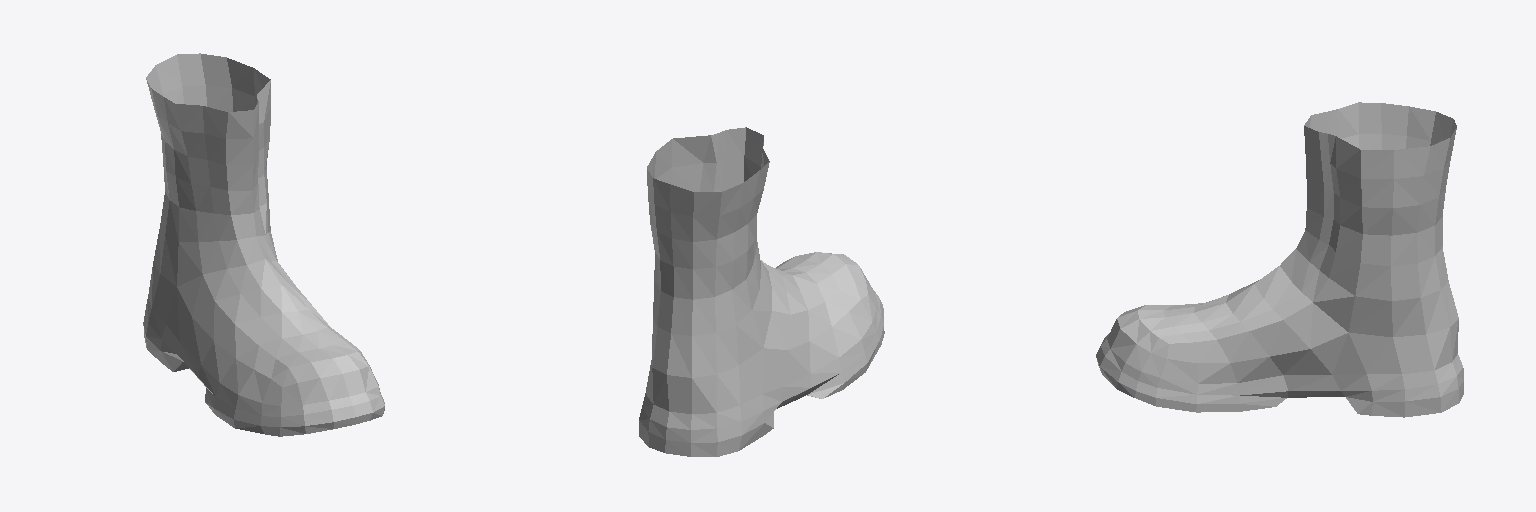
File: boot test.obj
3 renders of one model, left to right at view 1: azimuth 30°, elevation 25°; view 2: azimuth 150°, elevation 25°; view 3: azimuth 270°, elevation 25°, orthographic.
Parts seen in each view (by area): view 1: Cylinder001; view 2: Cylinder001; view 3: Cylinder001.
Boxes of the visible parts, <box> form: Cylinder001: <box>143,53,384,436</box>; Cylinder001: <box>639,127,884,456</box>; Cylinder001: <box>1096,102,1463,417</box>.
Bounding box in the file's own units: 19.02 × 40.22 × 49.74.